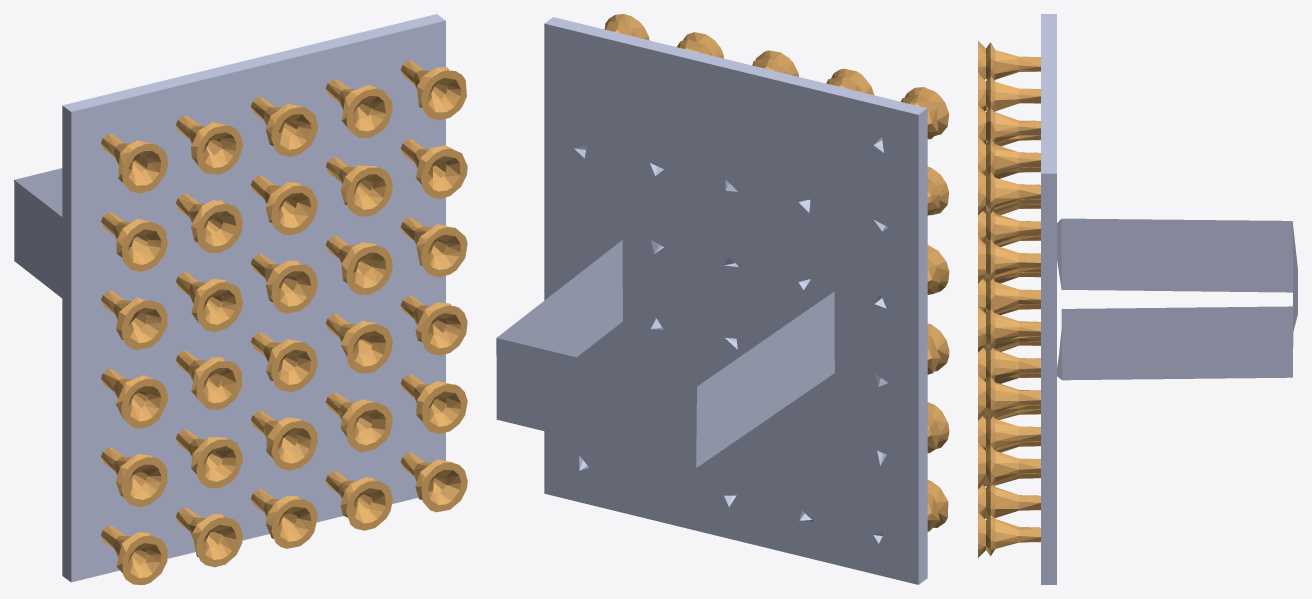
File: VacuumGripper.fbx
3 renders of one model, left to right at view 1: azimuth 30°, elevation 25°; view 2: azimuth 150°, elevation 25°; view 3: azimuth 270°, elevation 25°, orthographic. The views are drawn at different scales.
Visible parts, largest first — view 1: obj1, obj2; view 2: obj1, obj2; view 3: obj1, obj2.
Boxes of the visible parts, x1,y1,x2,y2 form: obj1: (14,14,445,582); obj2: (101,60,467,584); obj1: (496,17,927,584); obj2: (604,14,949,531); obj1: (1041,14,1297,584); obj2: (978,41,1040,557).
Bounding box in the file's own units: 9449 × 11339 × 7992.
